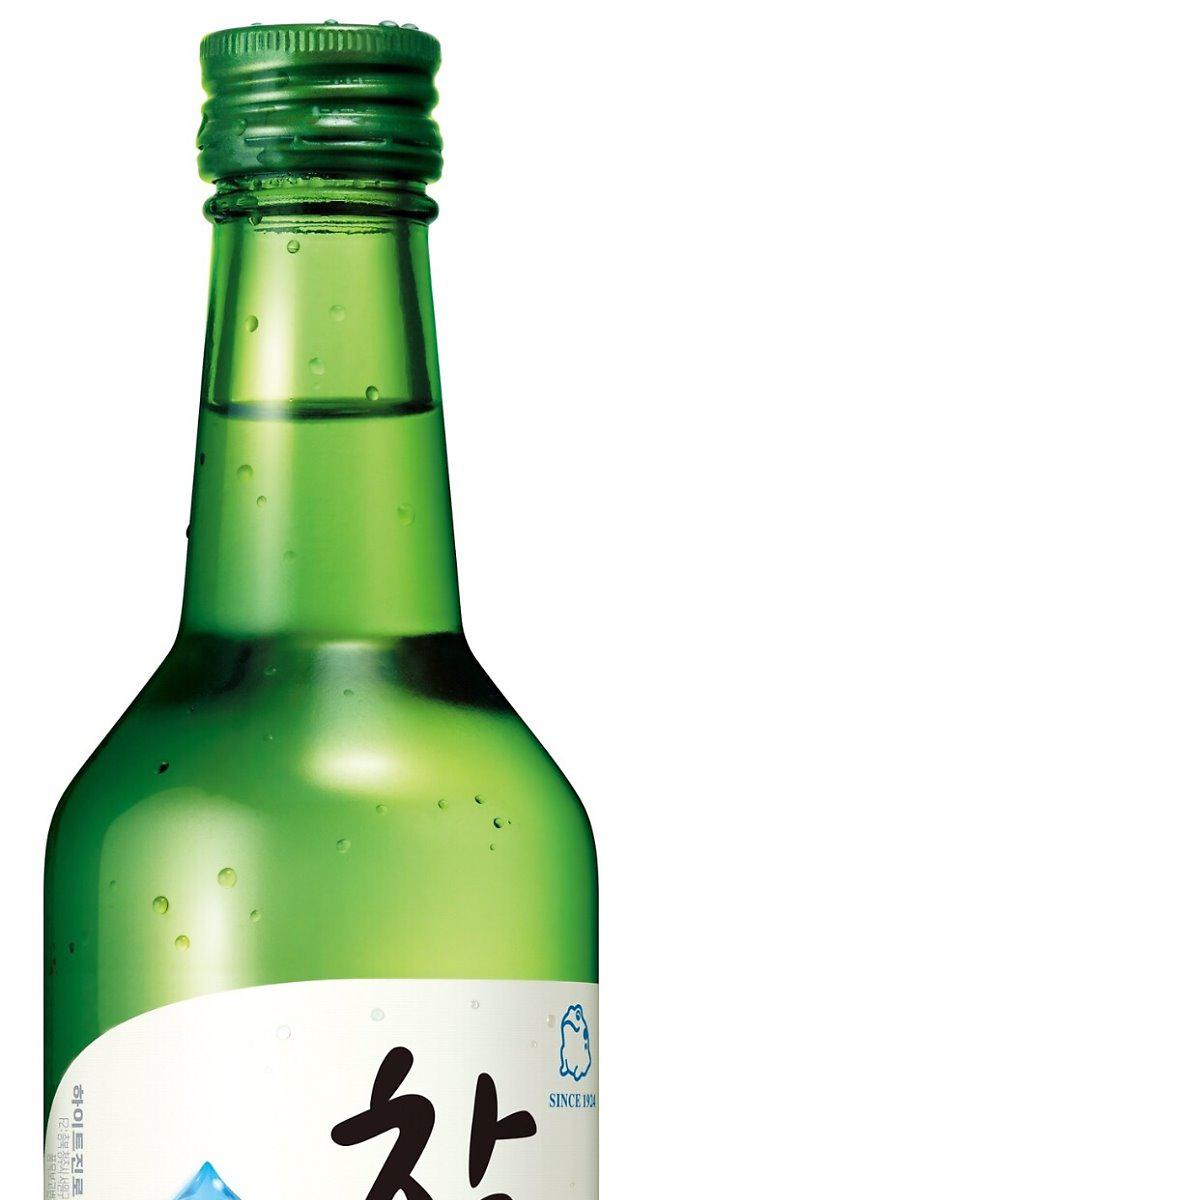soju: (41, 13, 618, 1200)
